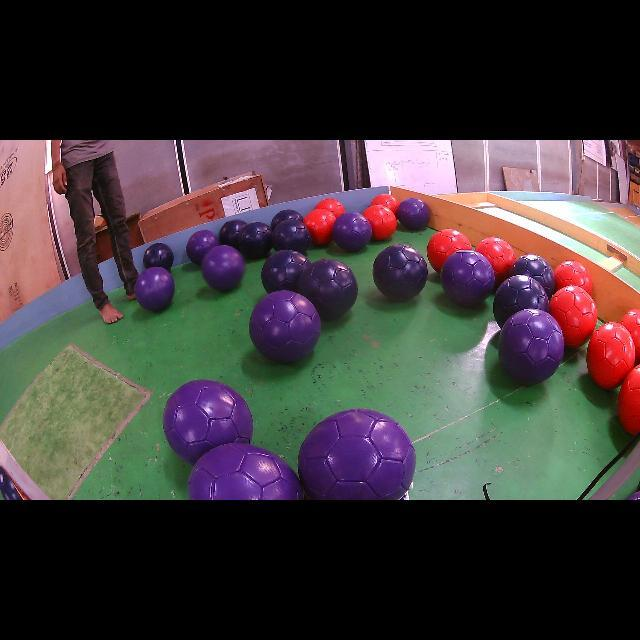B: (298, 259, 358, 320), (372, 244, 428, 301), (492, 275, 550, 328), (261, 250, 311, 294), (509, 254, 555, 299), (271, 219, 311, 252), (238, 221, 271, 259), (142, 242, 174, 271), (219, 219, 246, 249), (270, 209, 304, 231)
P: (298, 409, 415, 500), (162, 380, 252, 464), (188, 442, 302, 500), (249, 290, 321, 362), (499, 309, 564, 385), (441, 250, 495, 306), (201, 245, 245, 291), (135, 266, 175, 311), (331, 212, 372, 251), (186, 230, 219, 265), (396, 198, 430, 230)
R: (586, 322, 635, 390), (550, 285, 598, 348), (475, 238, 516, 288), (426, 229, 472, 272), (618, 365, 640, 435), (554, 260, 592, 295), (362, 205, 398, 240), (304, 209, 336, 245), (620, 309, 640, 363), (370, 194, 400, 214), (315, 199, 345, 218)
